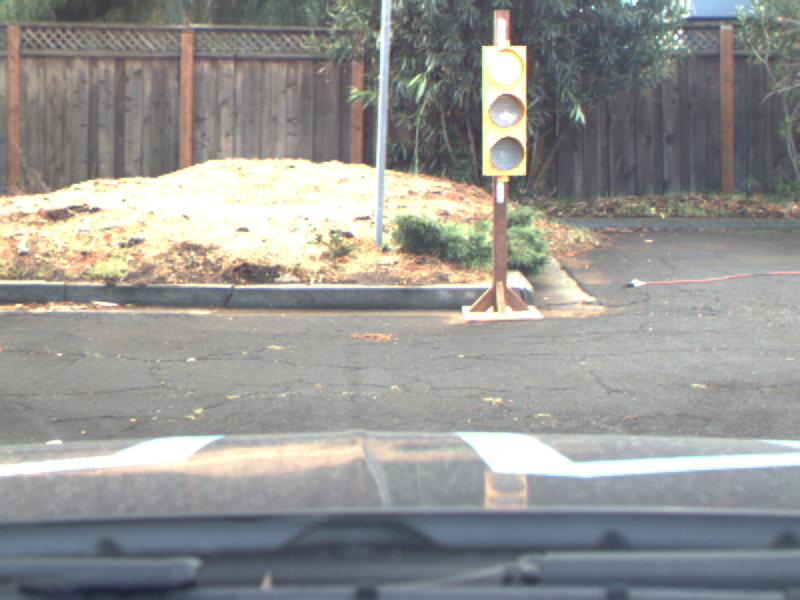Red: (481, 46, 527, 176)
